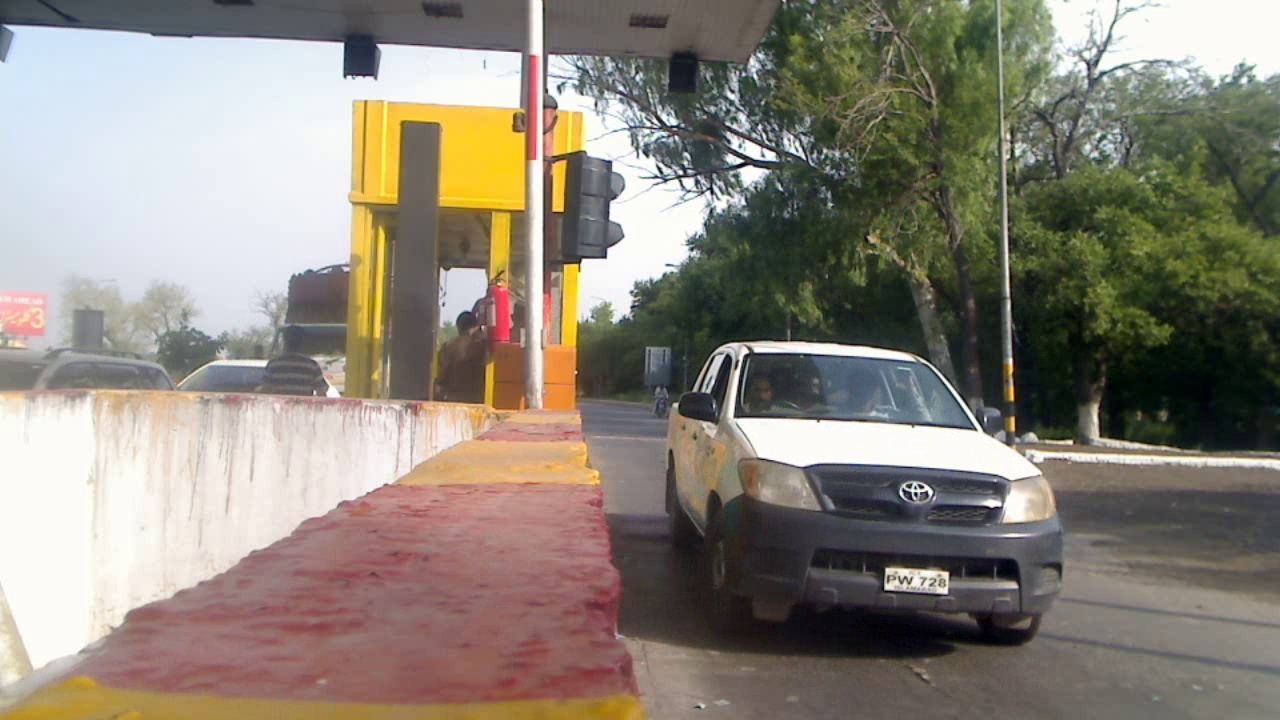Number Plate (Car): (886, 567, 948, 593)
